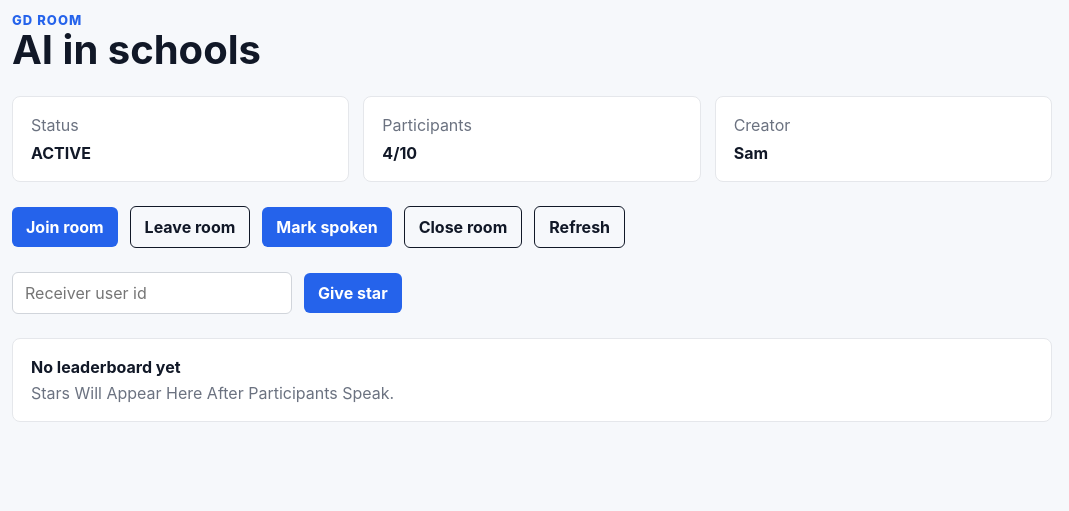
Scenario: GDRoomPage › gives stars with the backend DTO and refreshes leaderboard state
Expected: the heading "AI in schools" is shown, [12, 25, 261, 74]
Type "2" into the number field with placeholder "Receiver user id" at (152, 293), box [12, 272, 292, 314]
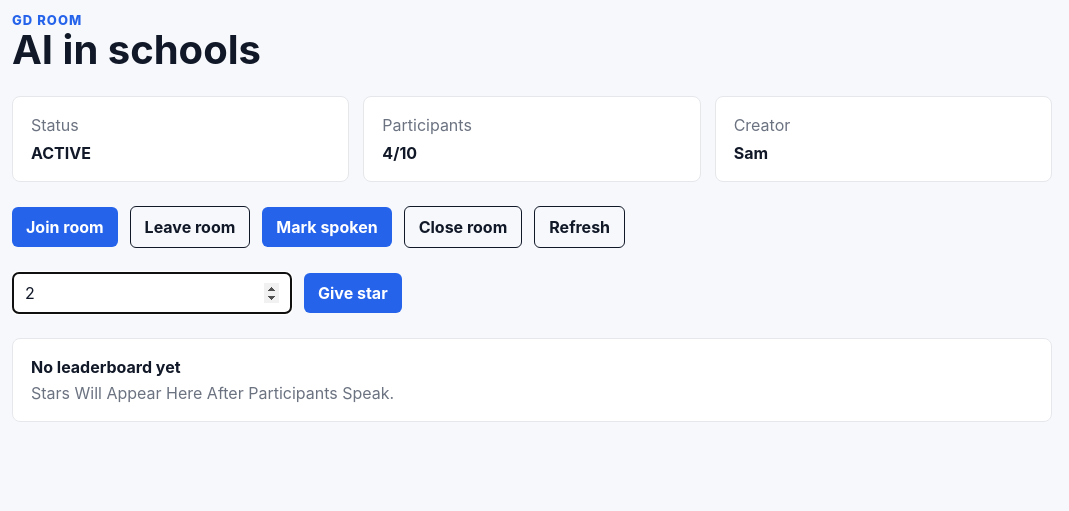
Click the button "Give star" at (353, 293), box [304, 273, 402, 313]
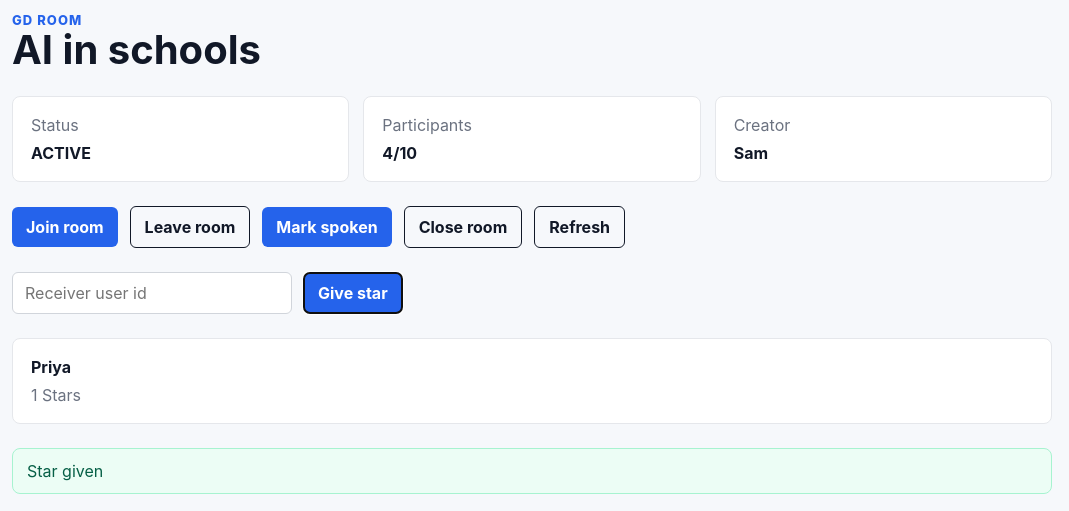
Expected: the message reads "Star given", [27, 461, 103, 481]
Expected: the text "Priya" is shown, [31, 357, 71, 377]
